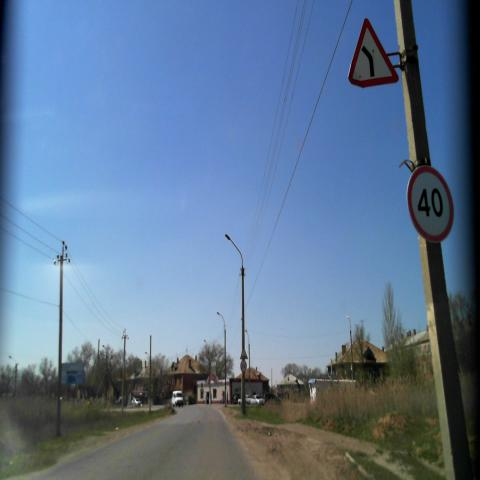1_11_1: (346, 13, 400, 88)
